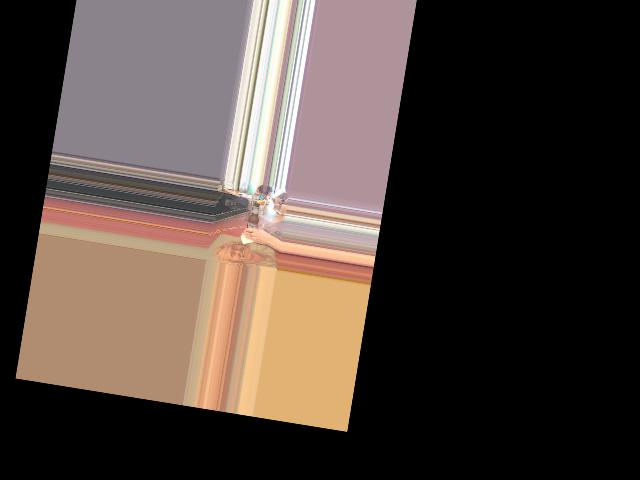beer: (244, 200, 260, 240)
